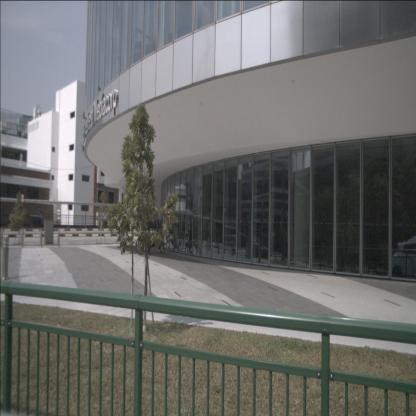human-pedestrian-adult: (38, 210, 42, 228)
vehicle-car: (390, 237, 416, 282), (241, 237, 269, 259), (142, 217, 160, 231)
